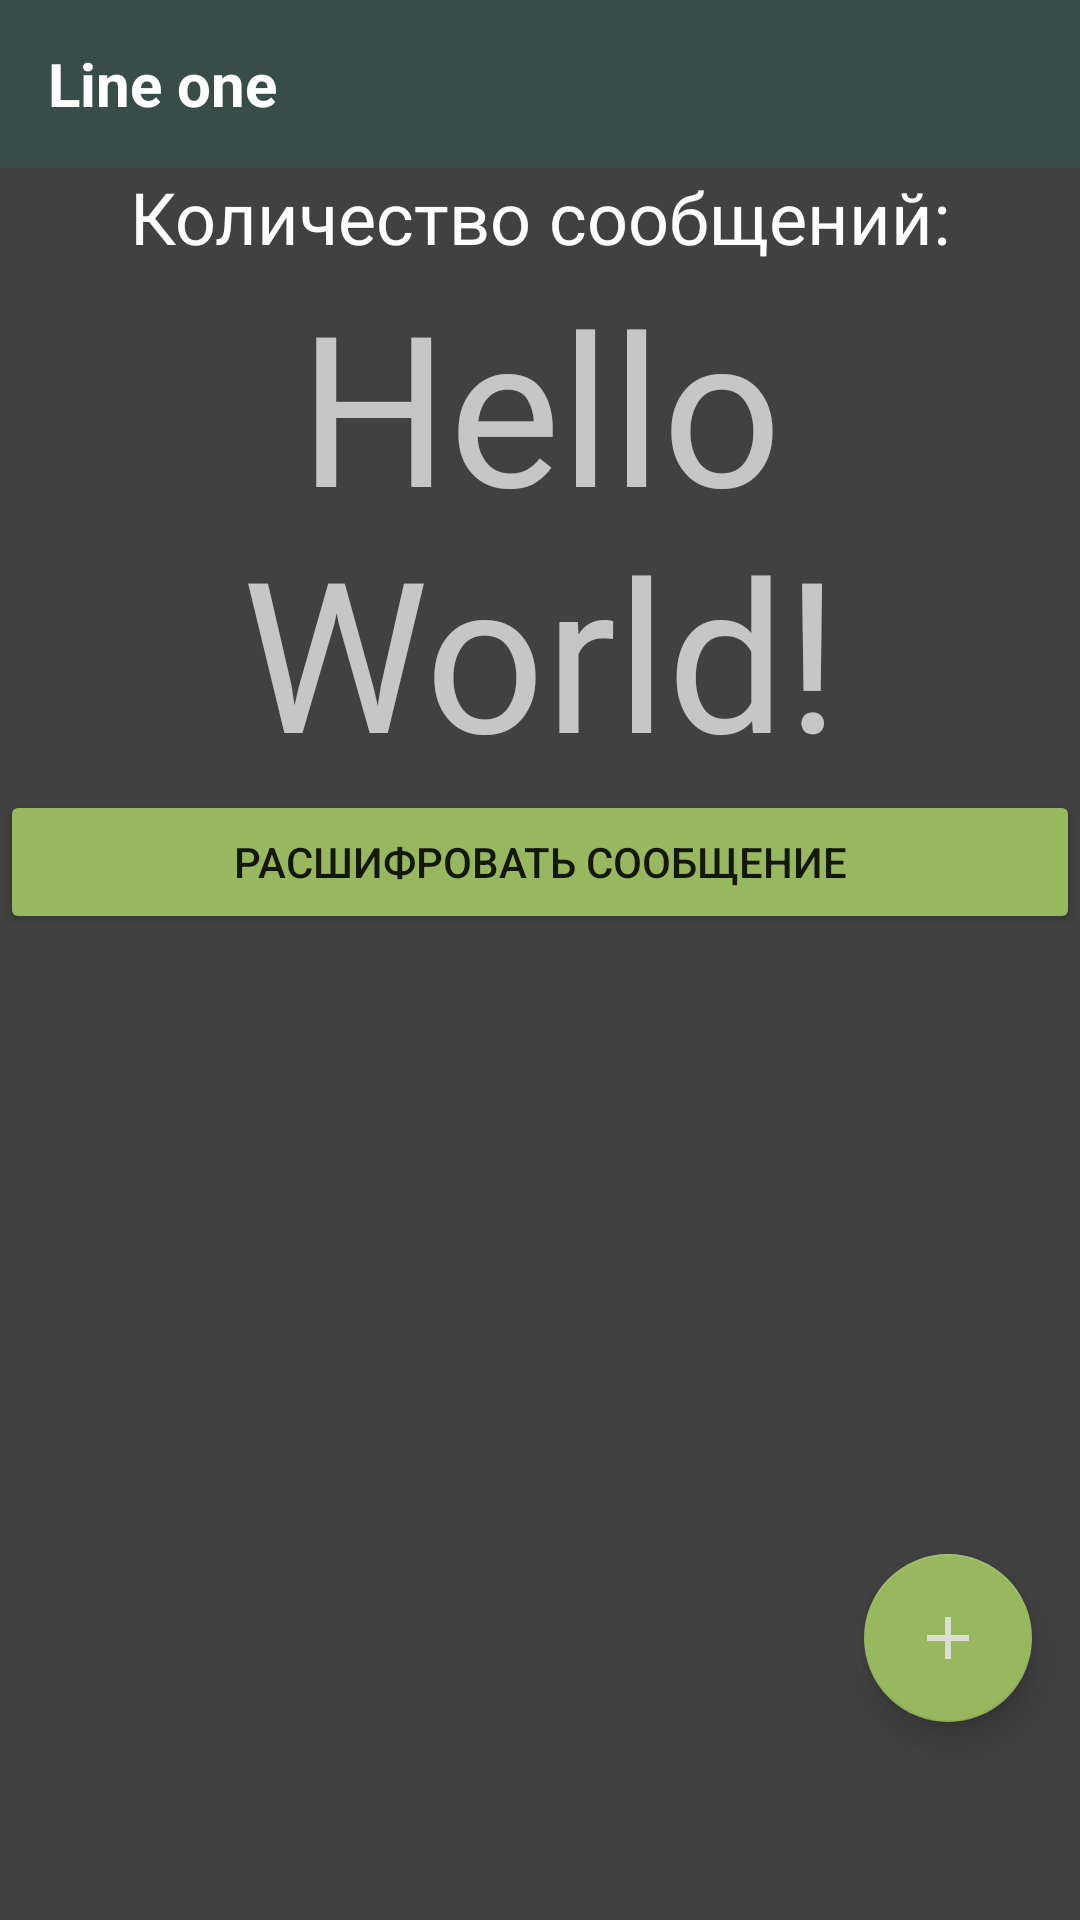

Where icons sit on this 1080px x 1920px app screen, as (x1, y1, x2, y2):
add: (864, 1554, 1032, 1722)
